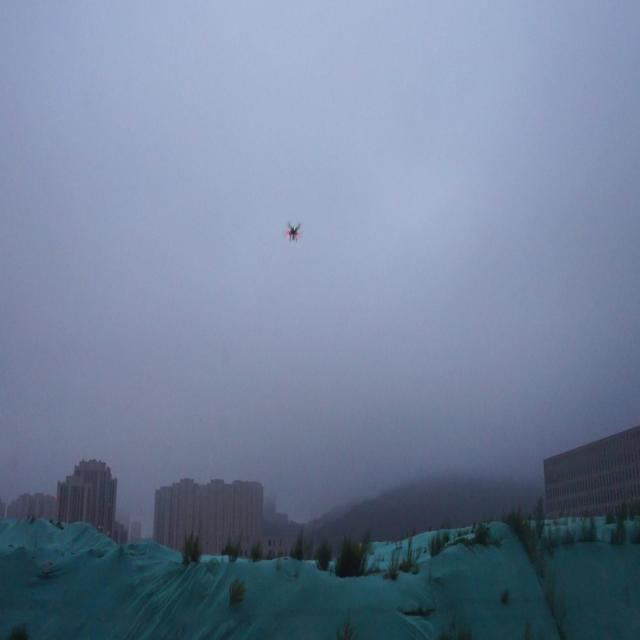drone: (284, 220, 302, 244)
